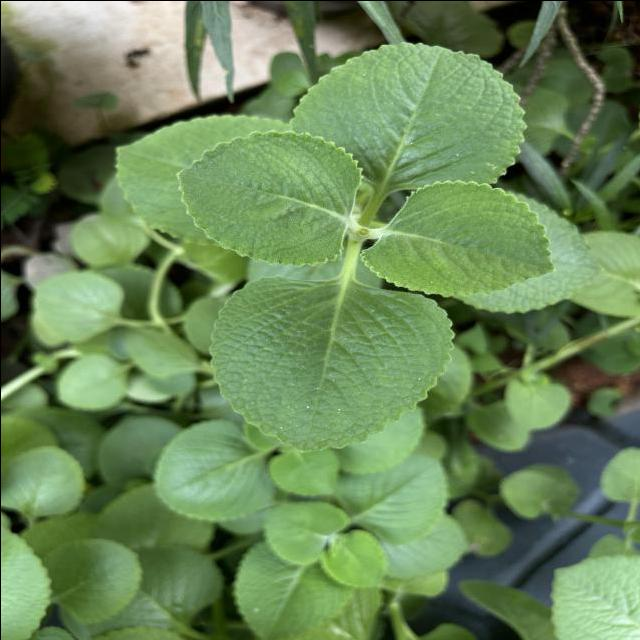Plectranthus barbatus: (207, 274, 456, 454), (288, 41, 528, 186), (174, 128, 364, 268), (358, 178, 556, 298)
